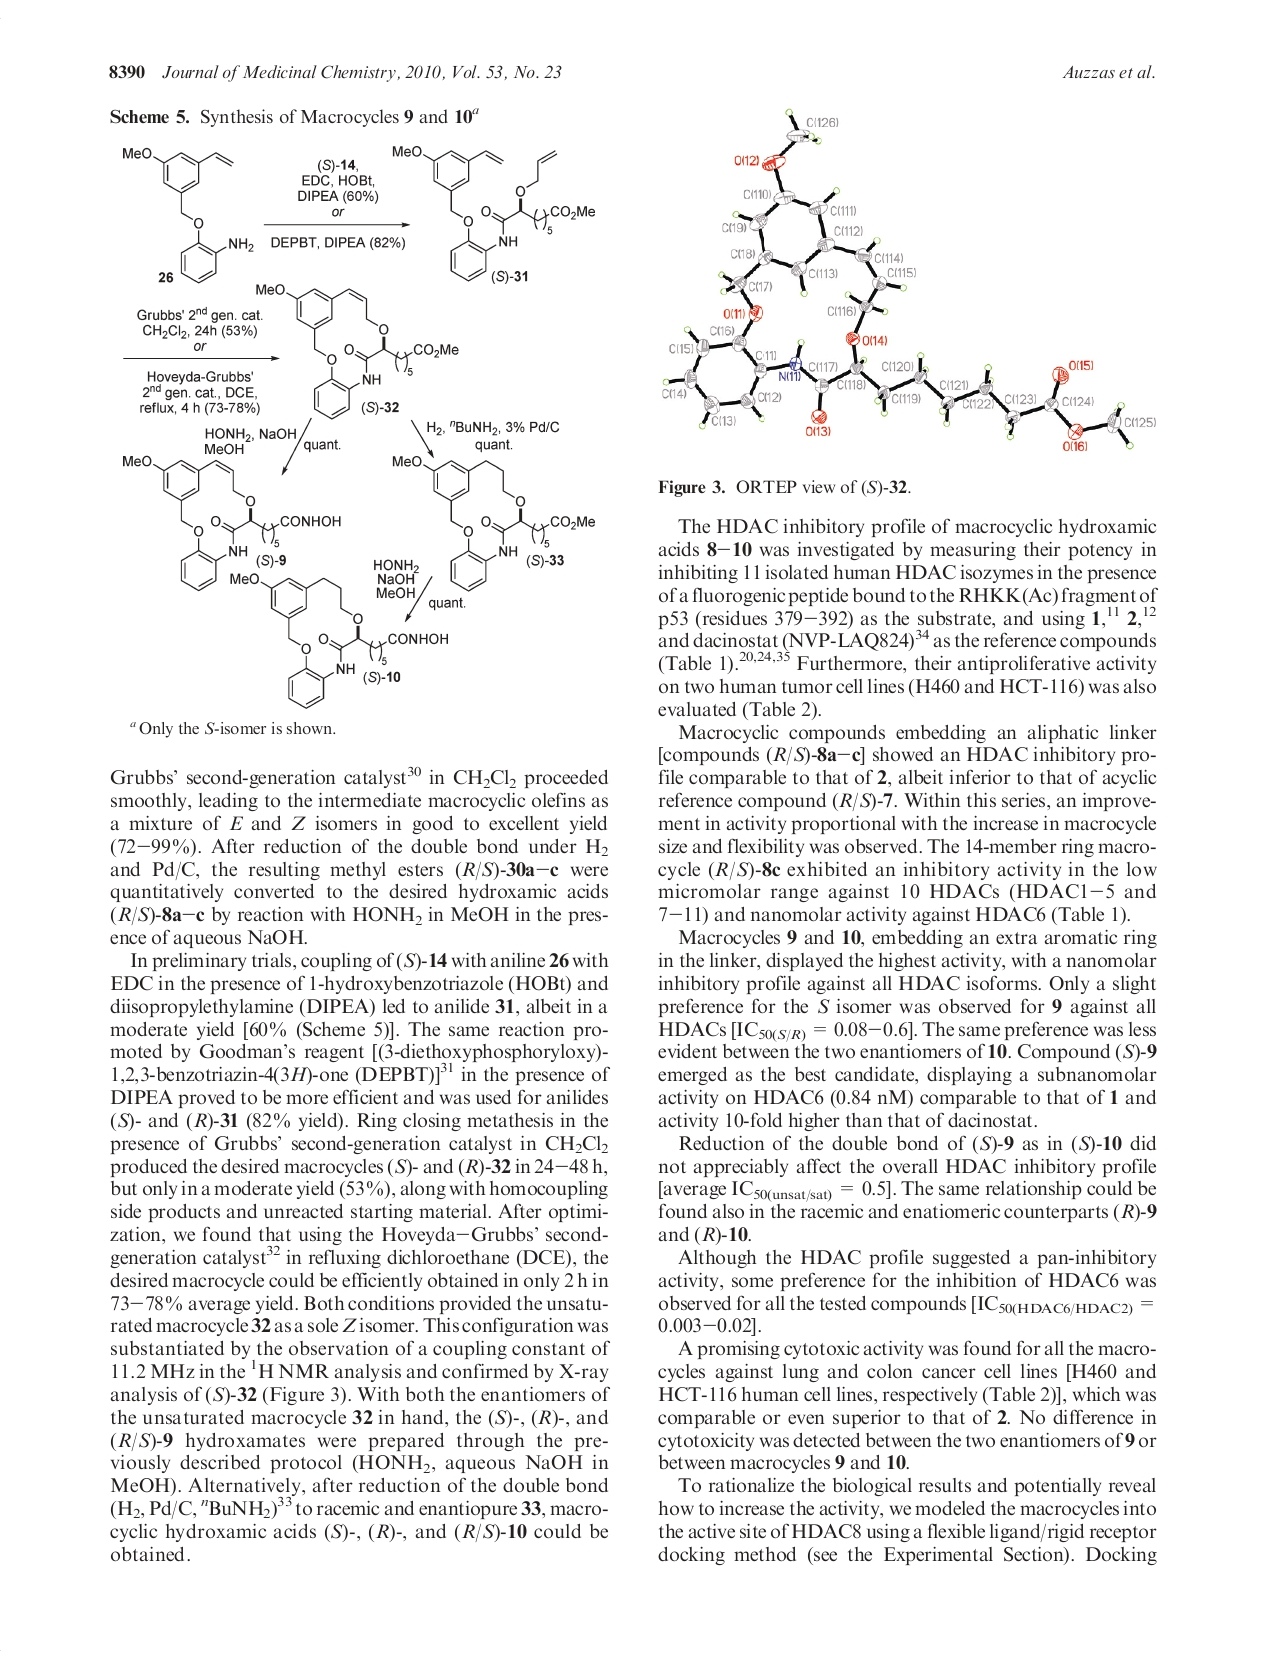exist_molecular: (658, 106, 1158, 453), (227, 571, 451, 710), (118, 453, 342, 592), (254, 282, 461, 422), (390, 144, 596, 283), (391, 455, 596, 593), (118, 145, 255, 283)
